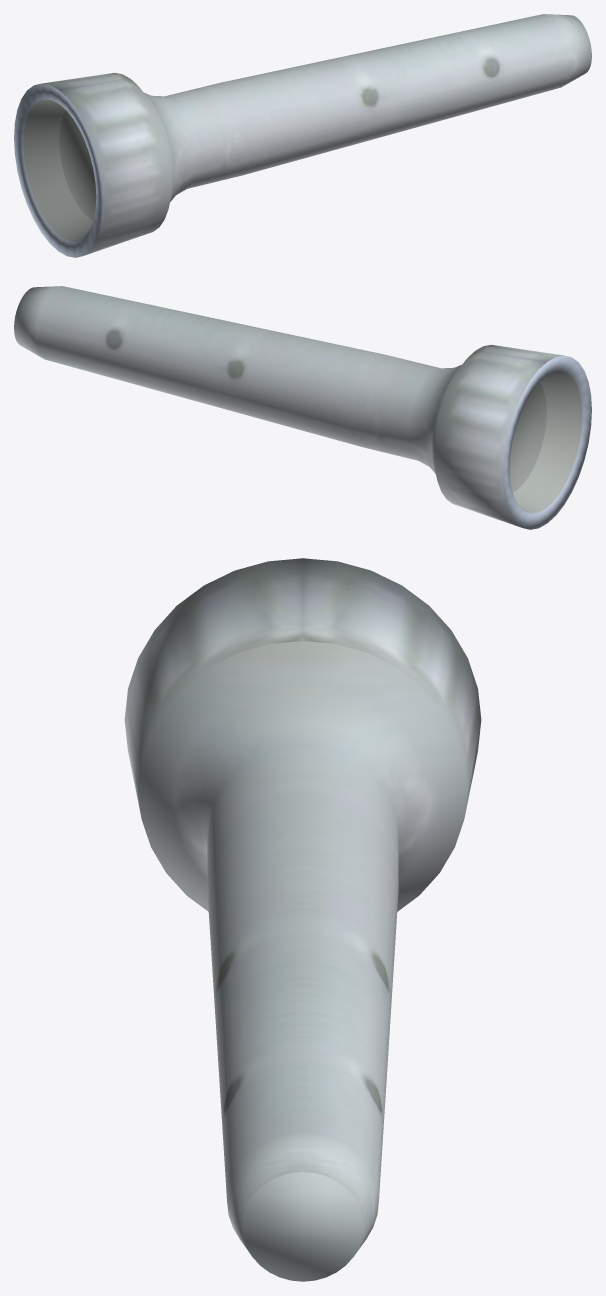
Rendered from 20170810GOPHDRGPT22718_2.fbx.
3 renders of one model, top to bottom at view 1: azimuth 30°, elevation 25°; view 2: azimuth 150°, elevation 25°; view 3: azimuth 270°, elevation 25°, orthographic. The views are drawn at different scales.
Visible parts, largest first — view 1: 圓柱體.014; view 2: 圓柱體.014; view 3: 圓柱體.014.
Part boxes in pixels (x1,y1,x2,y2): 圓柱體.014: [14, 14, 591, 257]; 圓柱體.014: [14, 286, 591, 529]; 圓柱體.014: [124, 558, 481, 1281].
Size of the model in its own units: 35.22 by 10.5 by 10.5.
1 material, 1 textured.
